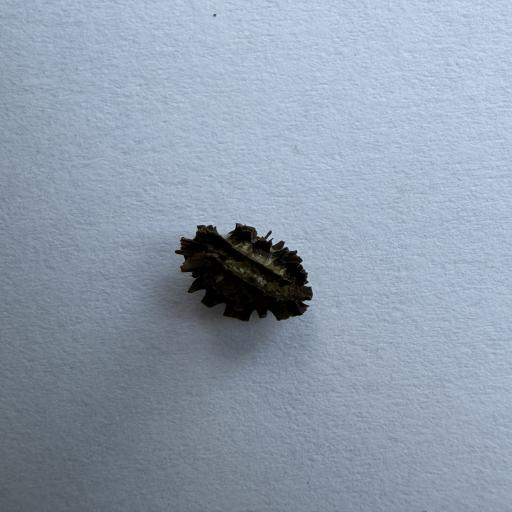papaya_seed: (161, 200, 348, 338)
